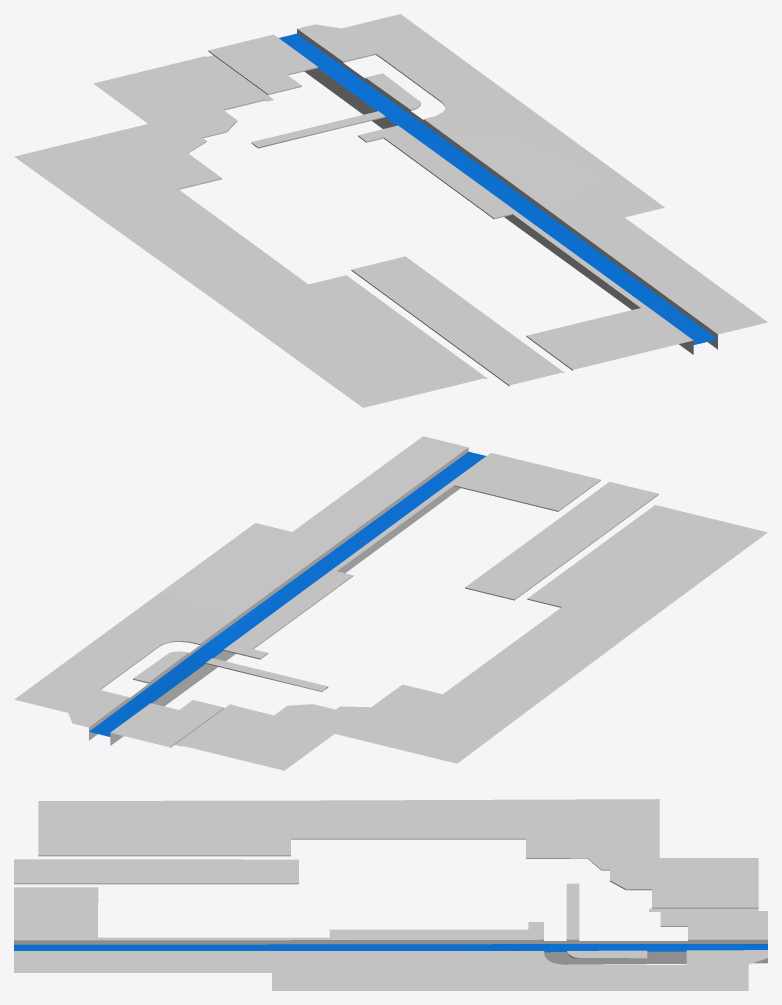
File: bg_floor_surrounding.fbx
3 renders of one model, top to bottom at view 1: azimuth 30°, elevation 25°; view 2: azimuth 150°, elevation 25°; view 3: azimuth 270°, elevation 25°, orthographic. The views are drawn at different scales.
Parts seen in each view (by area): view 1: bg_floor_,surrounding_m; view 2: bg_floor_,surrounding_m; view 3: bg_floor_,surrounding_m.
Boxes of the visible parts, x1,y1,x2,y2 form: bg_floor_,surrounding_m: (14,14,767,407); bg_floor_,surrounding_m: (14,436,767,770); bg_floor_,surrounding_m: (14,799,767,990).
Size of the model in its own units: 27339 by 958 by 45446.
